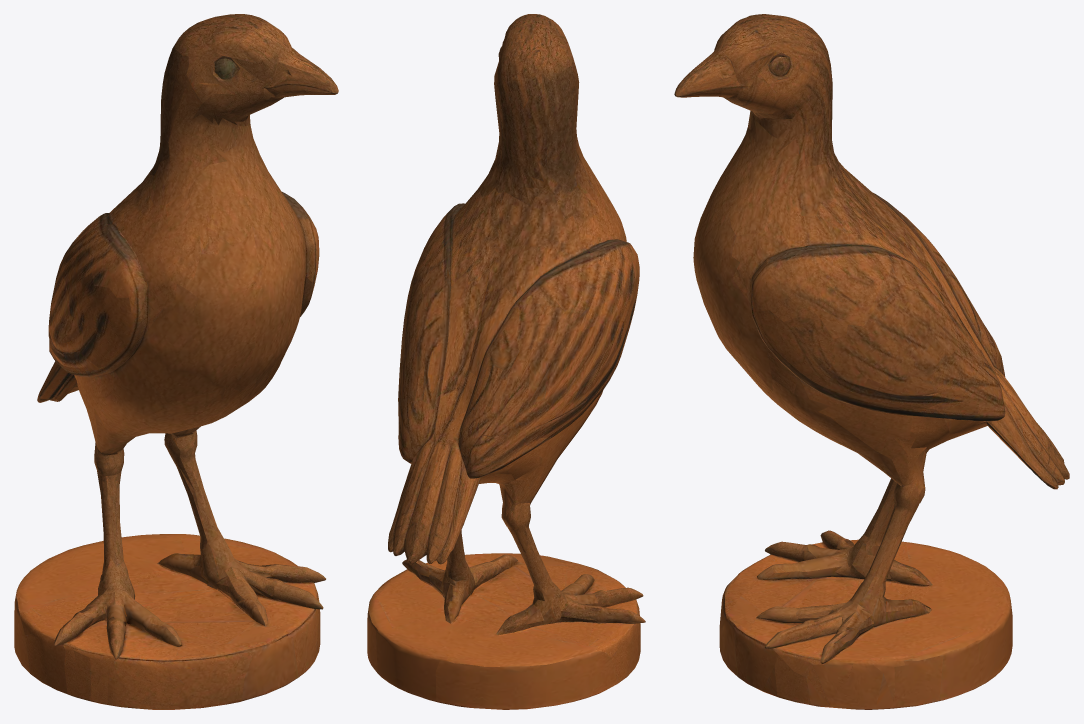
File: chick.glb
The picture shows the model from 3 angles, left to right: view 1: azimuth 30°, elevation 25°; view 2: azimuth 150°, elevation 25°; view 3: azimuth 270°, elevation 25°; orthographic projection. The views are drawn at different scales.
Visible parts, largest first — view 1: mesh_node; view 2: mesh_node; view 3: mesh_node.
Boxes of the visible parts, x1,y1,x2,y2 form: mesh_node: (14, 14, 338, 709); mesh_node: (367, 14, 645, 709); mesh_node: (674, 14, 1069, 709).
Size of the model in its own units: 0.8136 by 1.9 by 1.06.
Materials: 1 (1 with a texture image).
